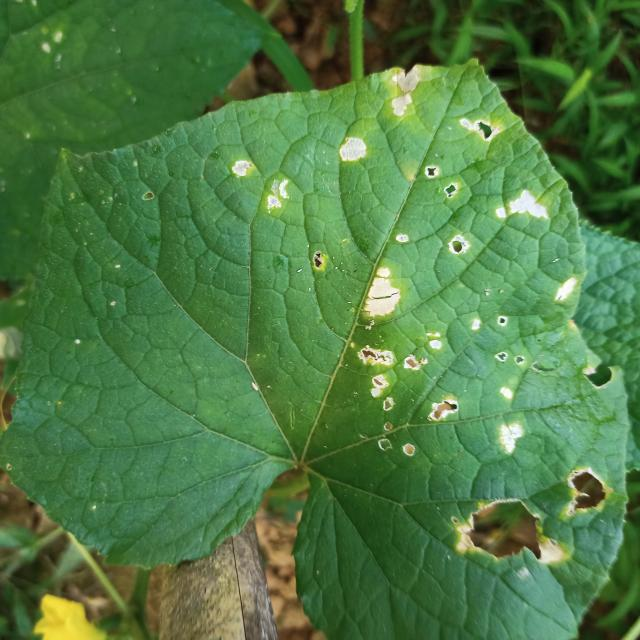disease_cucumber: (351, 329, 466, 461), (447, 496, 566, 574), (230, 158, 299, 212), (563, 464, 610, 529), (490, 181, 552, 227), (361, 263, 405, 326), (494, 413, 534, 470), (384, 63, 424, 120), (420, 165, 466, 201), (460, 113, 516, 142), (547, 265, 579, 311), (332, 131, 370, 163), (444, 229, 472, 260)
